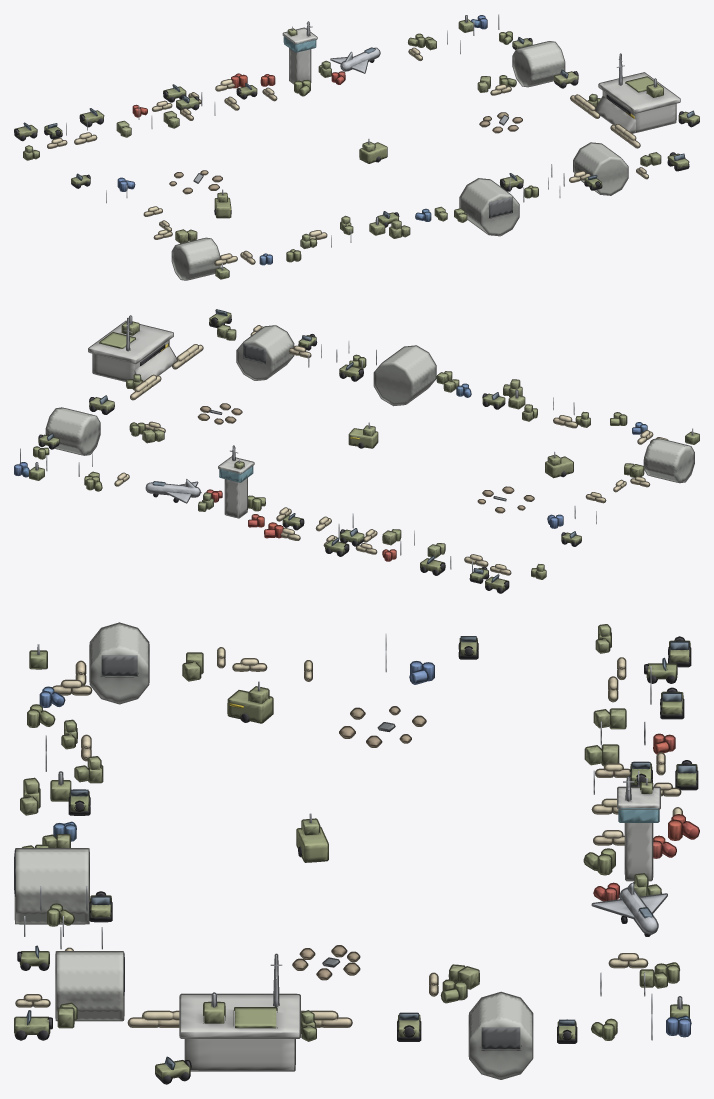
The model's file is airbase.glb.
3 renders of one model, top to bottom at view 1: azimuth 30°, elevation 25°; view 2: azimuth 150°, elevation 25°; view 3: azimuth 270°, elevation 25°, orthographic. The views are drawn at different scales.
Parts seen in each view (by area): view 1: Baked_matte, Baked_satin, Baked_matte_Outline, Baked_satin_Outline, Baked_metal, Baked_gloss; view 2: Baked_matte, Baked_satin, Baked_matte_Outline, Baked_satin_Outline, Baked_gloss, Baked_metal; view 3: Baked_matte, Baked_satin, Baked_matte_Outline, Baked_satin_Outline, Baked_gloss, Baked_metal, Baked_gloss_Outline.
Boxes of the visible parts, x1,y1,x2,y2 form: Baked_matte: (14, 15, 699, 278); Baked_satin: (172, 41, 627, 279); Baked_matte_Outline: (14, 15, 699, 279); Baked_satin_Outline: (171, 41, 628, 280); Baked_metal: (66, 14, 656, 270); Baked_gloss: (24, 37, 694, 218); Baked_matte: (14, 313, 699, 592); Baked_satin: (46, 326, 694, 502); Baked_matte_Outline: (14, 312, 699, 593); Baked_satin_Outline: (45, 325, 694, 503); Baked_gloss: (47, 310, 575, 582); Baked_metal: (20, 316, 693, 572); Baked_matte: (15, 625, 698, 1083); Baked_satin: (16, 623, 666, 1078); Baked_matte_Outline: (14, 624, 699, 1084); Baked_satin_Outline: (14, 622, 667, 1079); Baked_gloss: (27, 637, 695, 1070); Baked_metal: (24, 634, 681, 1040); Baked_gloss_Outline: (26, 636, 696, 1069).
Size of the model in its own units: 40.47 by 5.9 by 26.49.
